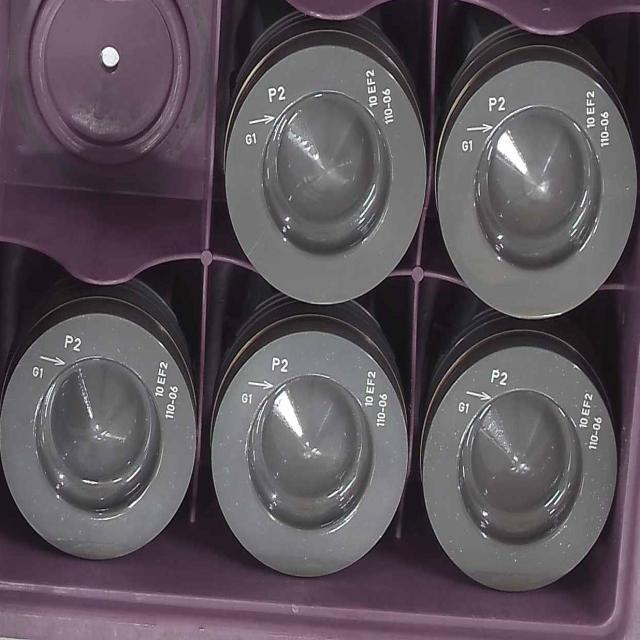P2: (437, 45, 633, 320), (210, 327, 416, 587), (426, 340, 618, 610), (7, 311, 203, 569), (222, 46, 421, 298)
